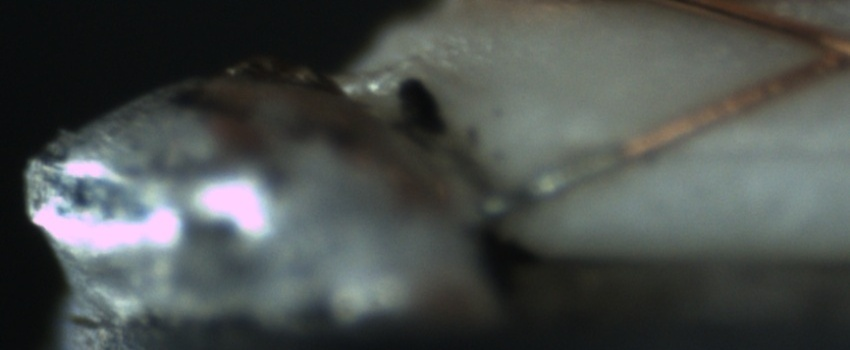DL: (667, 120, 850, 184)
TB: (519, 163, 575, 204)
TS: (482, 147, 621, 215)
TTCW: (482, 124, 658, 215)
